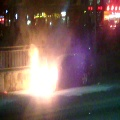fire: (23, 44, 58, 99)
